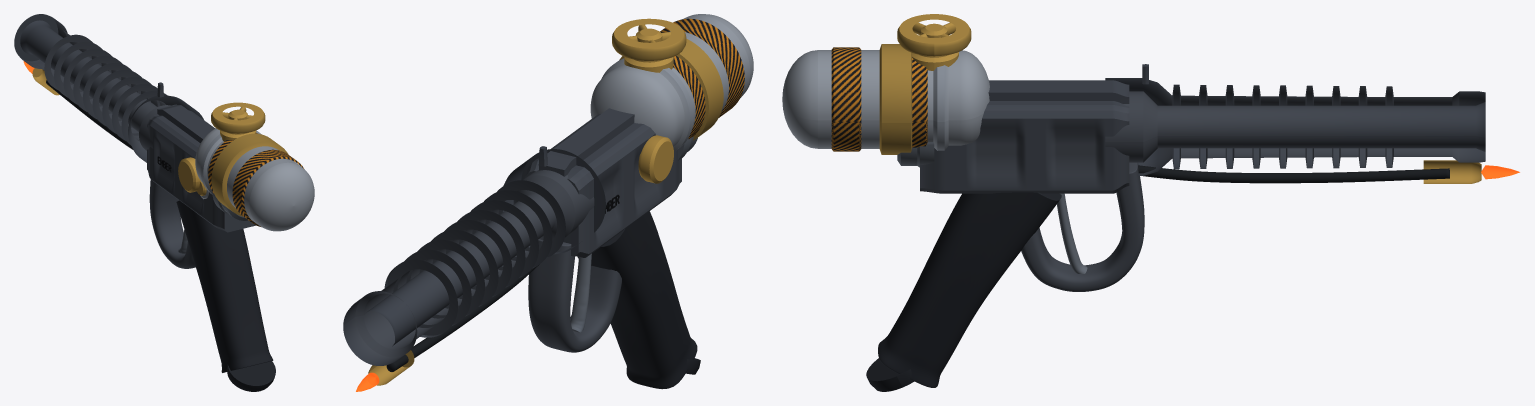
The model's file is weapon_emberpistol_vm.glb.
3 renders of one model, left to right at view 1: azimuth 30°, elevation 25°; view 2: azimuth 150°, elevation 25°; view 3: azimuth 270°, elevation 25°, orthographic. The views are drawn at different scales.
Visible parts, largest first — view 1: emberpistol_barrel, emberpistol_grip, emberpistol_canister, emberpistol_frame, emberpistol_trigger_guard, emberpistol_sight_bezel, emberpistol_hazard_790, emberpistol_valve_rim, emberpistol_grip_cap, emberpistol_gauge_body, emberpistol_pilot_line, emberpistol_hazard_510; view 2: emberpistol_barrel, emberpistol_grip, emberpistol_frame, emberpistol_canister, emberpistol_trigger_guard, emberpistol_hazard_790, emberpistol_valve_rim, emberpistol_sight_bezel, emberpistol_gauge_body, emberpistol_pilot_line, emberpistol_trigger, emberpistol_hazard_510 (+2 smaller); view 3: emberpistol_barrel, emberpistol_frame, emberpistol_grip, emberpistol_canister, emberpistol_trigger_guard, emberpistol_sight_bezel, emberpistol_pilot_line, emberpistol_hazard_790, emberpistol_valve_rim, emberpistol_hazard_510, emberpistol_pilot_body, emberpistol_grip_cap (+2 smaller).
Part boxes in pixels (<box>): emberpistol_barrel: <box>14,14,203,162</box>; emberpistol_grip: <box>176,200,273,372</box>; emberpistol_canister: <box>195,128,314,231</box>; emberpistol_frame: <box>147,104,256,232</box>; emberpistol_trigger_guard: <box>149,179,195,268</box>; emberpistol_sight_bezel: <box>211,133,288,216</box>; emberpistol_hazard_790: <box>232,149,303,226</box>; emberpistol_valve_rim: <box>211,102,265,133</box>; emberpistol_grip_cap: <box>226,361,275,391</box>; emberpistol_gauge_body: <box>178,157,200,192</box>; emberpistol_pilot_line: <box>46,80,133,149</box>; emberpistol_hazard_510: <box>208,133,257,193</box>; emberpistol_barrel: <box>343,149,605,365</box>; emberpistol_grip: <box>577,211,697,389</box>; emberpistol_frame: <box>524,108,681,257</box>; emberpistol_canister: <box>590,14,753,151</box>; emberpistol_trigger_guard: <box>528,239,621,352</box>; emberpistol_hazard_790: <box>660,18,744,117</box>; emberpistol_valve_rim: <box>612,18,686,60</box>; emberpistol_sight_bezel: <box>619,38,723,140</box>; emberpistol_gauge_body: <box>638,135,673,183</box>; emberpistol_pilot_line: <box>386,264,539,371</box>; emberpistol_trigger: <box>570,253,591,332</box>; emberpistol_hazard_510: <box>673,56,705,138</box>; emberpistol_barrel: <box>1105,78,1485,175</box>; emberpistol_frame: <box>920,80,1129,193</box>; emberpistol_grip: <box>878,192,1061,387</box>; emberpistol_canister: <box>782,50,989,150</box>; emberpistol_trigger_guard: <box>1021,162,1144,291</box>; emberpistol_sight_bezel: <box>879,44,912,154</box>; emberpistol_pilot_line: <box>1138,165,1449,183</box>; emberpistol_hazard_790: <box>831,47,861,151</box>; emberpistol_valve_rim: <box>897,14,971,56</box>; emberpistol_hazard_510: <box>912,58,927,147</box>; emberpistol_pilot_body: <box>1423,160,1481,183</box>; emberpistol_grip_cap: <box>866,358,914,391</box>.
Bounding box in the file's own units: 0.0468 × 0.1665 × 0.3108.
11 materials, 1 textured.
